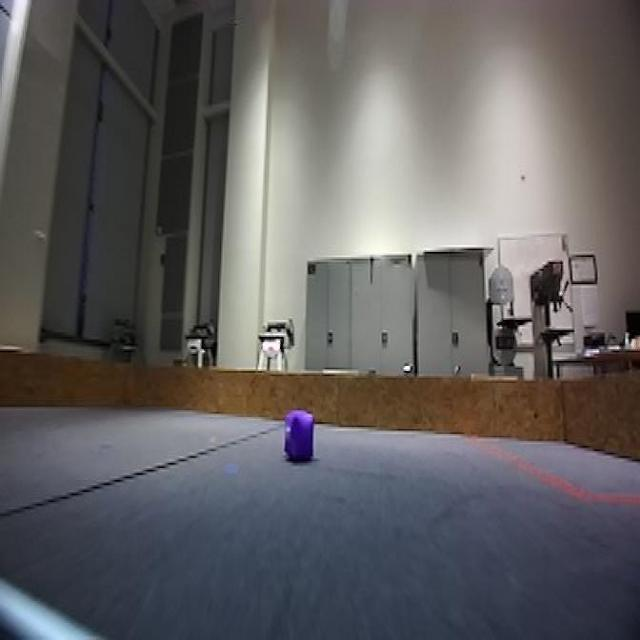frc_cube: (282, 408, 317, 466)
